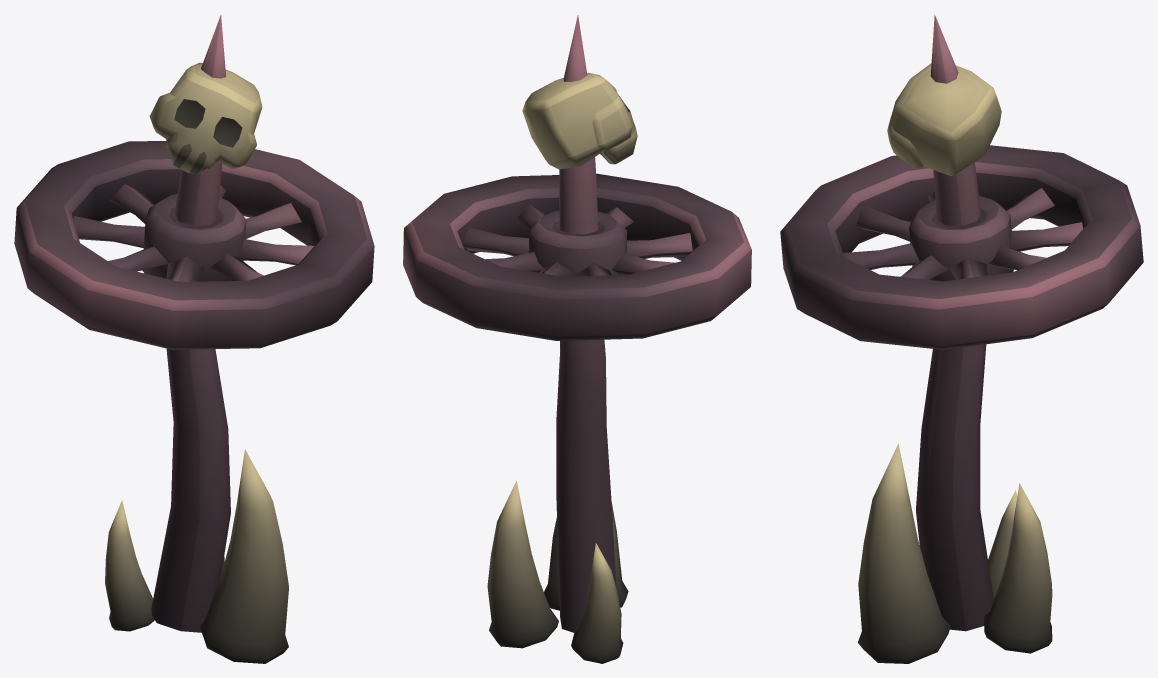
File: undead_wheel_of_pain.fbx
3 views of the same model, side by side, from view 1: azimuth 30°, elevation 25°; view 2: azimuth 150°, elevation 25°; view 3: azimuth 270°, elevation 25° (orthographic). The views are drawn at different scales.
Parts seen in each view (by area): view 1: undead_wheel_of_pain; view 2: undead_wheel_of_pain; view 3: undead_wheel_of_pain.
Boxes of the visible parts, x1=… form: undead_wheel_of_pain: x1=14, y1=15, x2=374, y2=663; undead_wheel_of_pain: x1=403, y1=15, x2=751, y2=663; undead_wheel_of_pain: x1=780, y1=14, x2=1143, y2=663.
Size of the model in its own units: 3.65 by 7.03 by 3.66.
